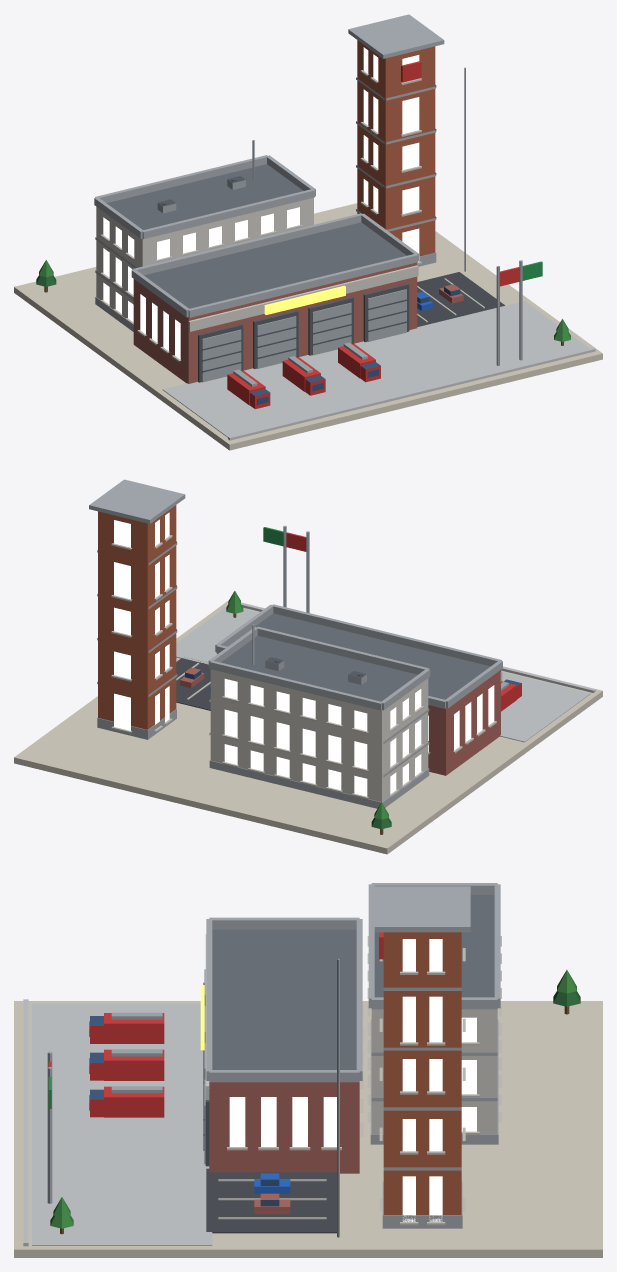
3 views of the same model, one above another, from view 1: azimuth 30°, elevation 25°; view 2: azimuth 150°, elevation 25°; view 3: azimuth 270°, elevation 25° (orthographic). The views are drawn at different scales.
Visible parts, largest first — view 1: b83_x2; view 2: b83_x2; view 3: b83_x2.
Part boxes in pixels (bbox=[...]): b83_x2: bbox=[14, 14, 602, 450]; b83_x2: bbox=[14, 479, 602, 854]; b83_x2: bbox=[14, 883, 602, 1257].
Bounding box in the file's own units: 1.96 × 1.15 × 1.96.
